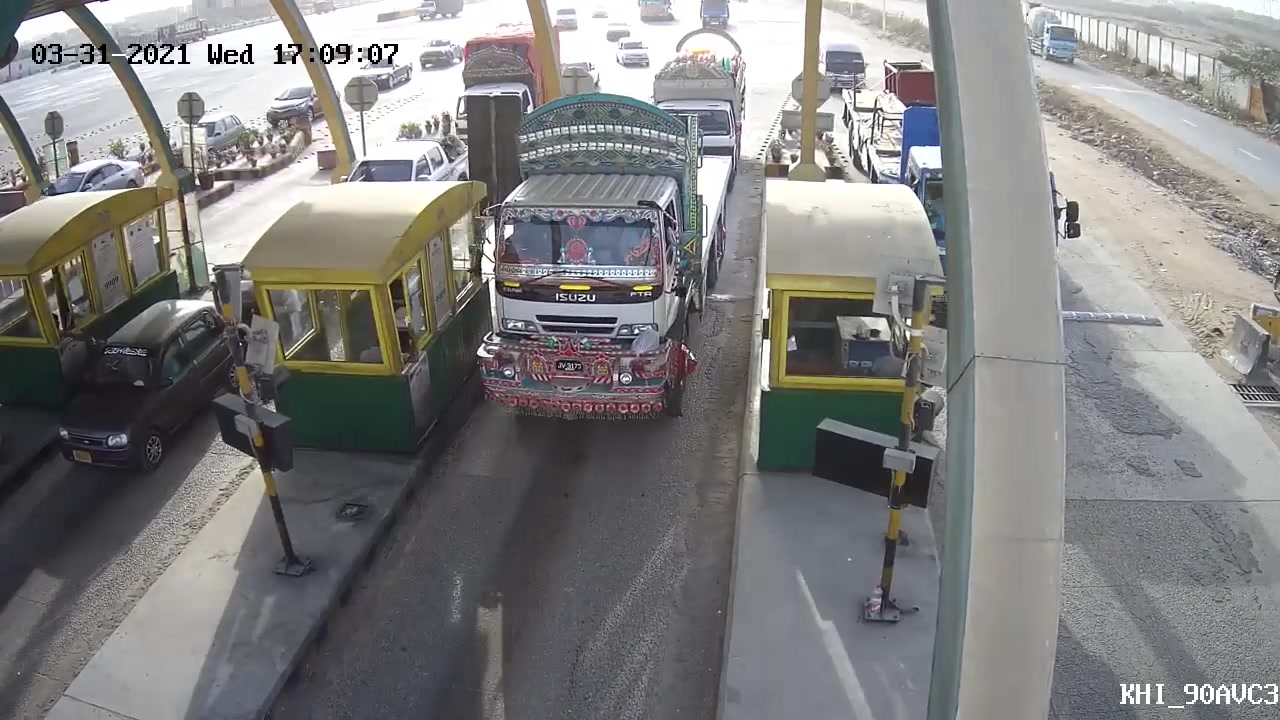F5: (459, 84, 744, 449)
